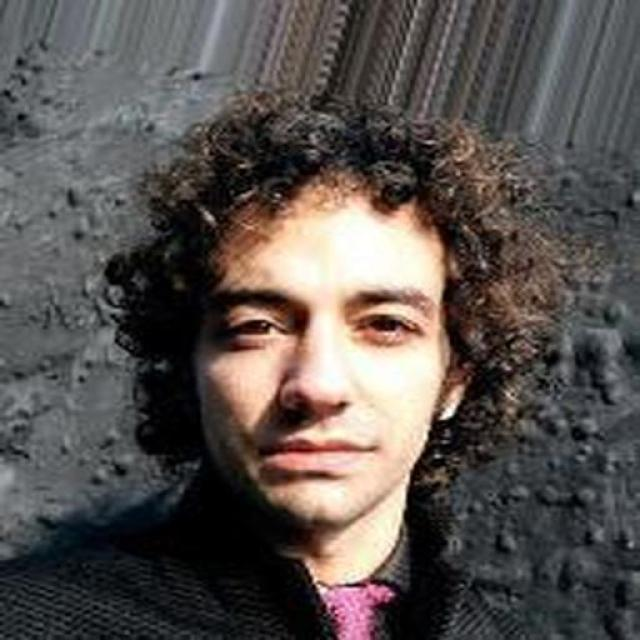bareface: (149, 141, 502, 522)
